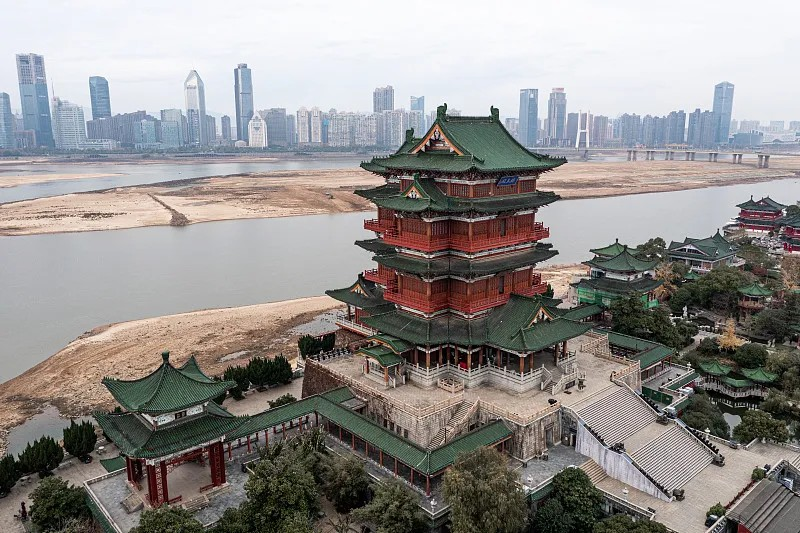Teng: (324, 103, 599, 387)
